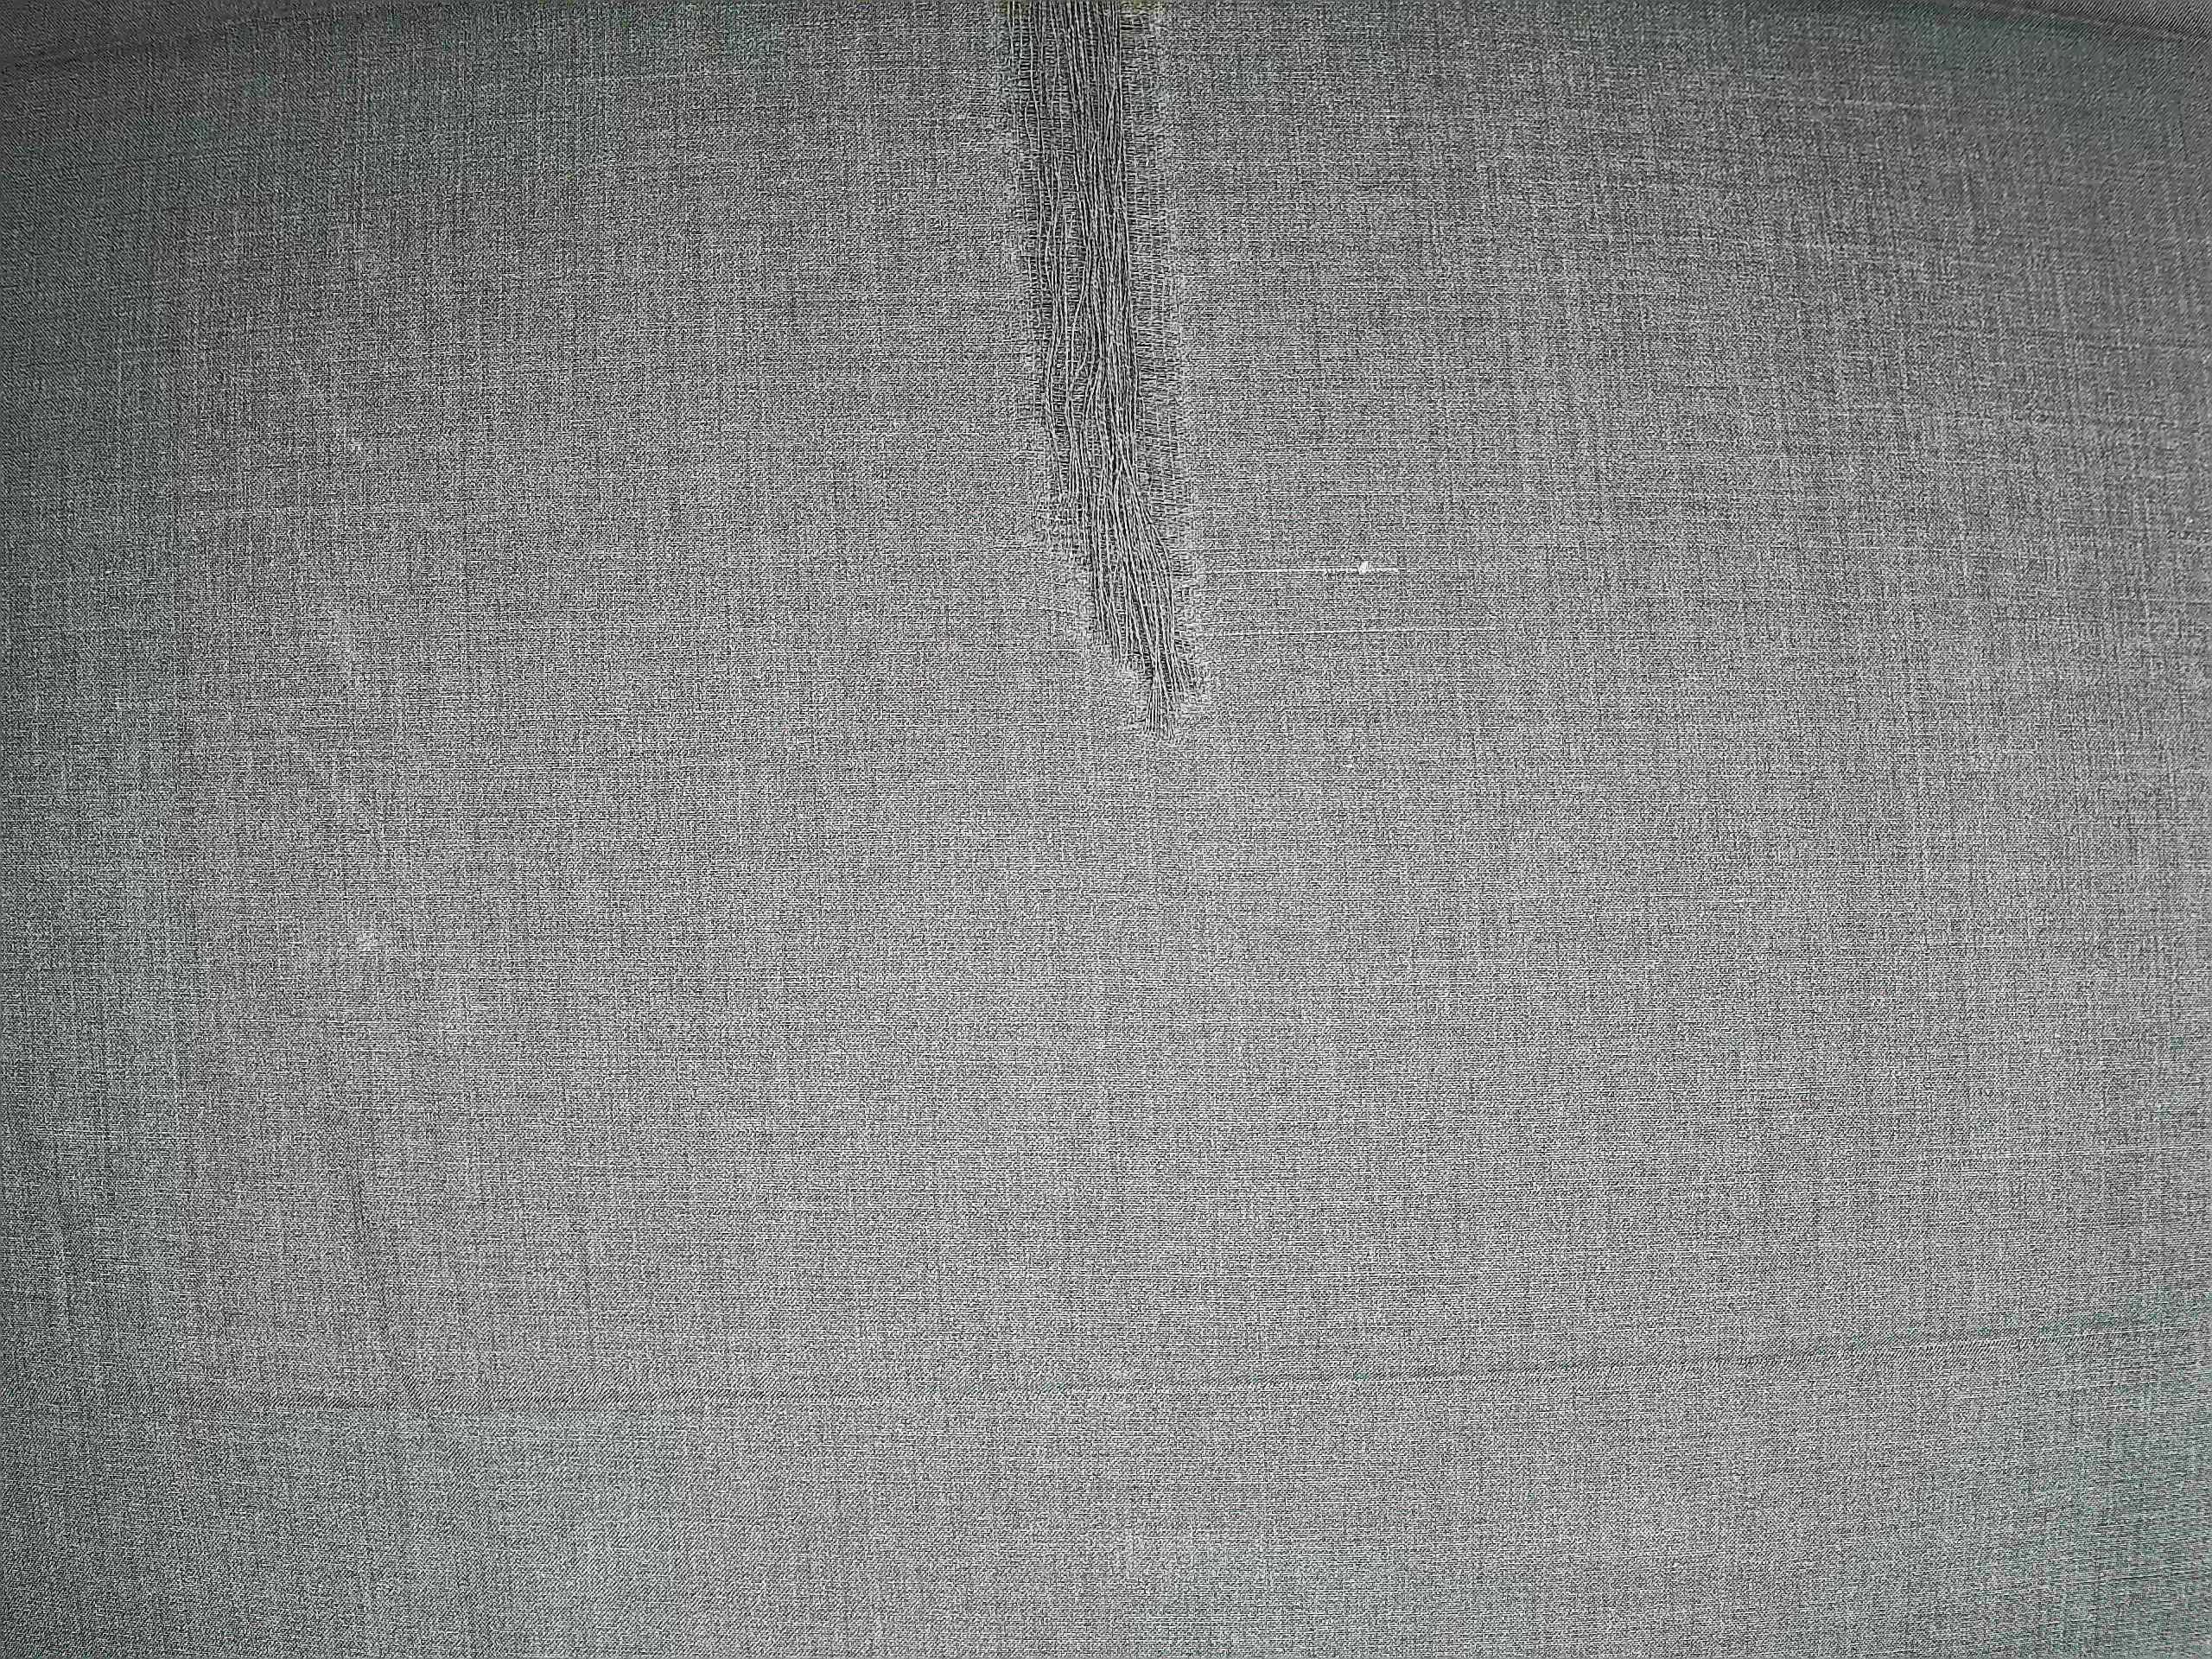others: (963, 2, 1224, 739)
